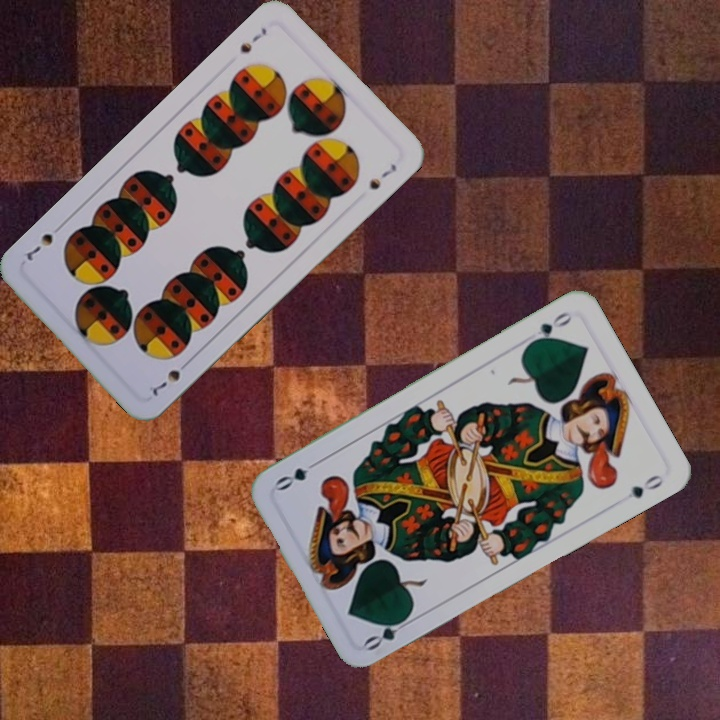GO: (360, 611, 416, 654), (524, 307, 576, 348)
S7: (148, 355, 194, 399), (236, 23, 270, 56)
